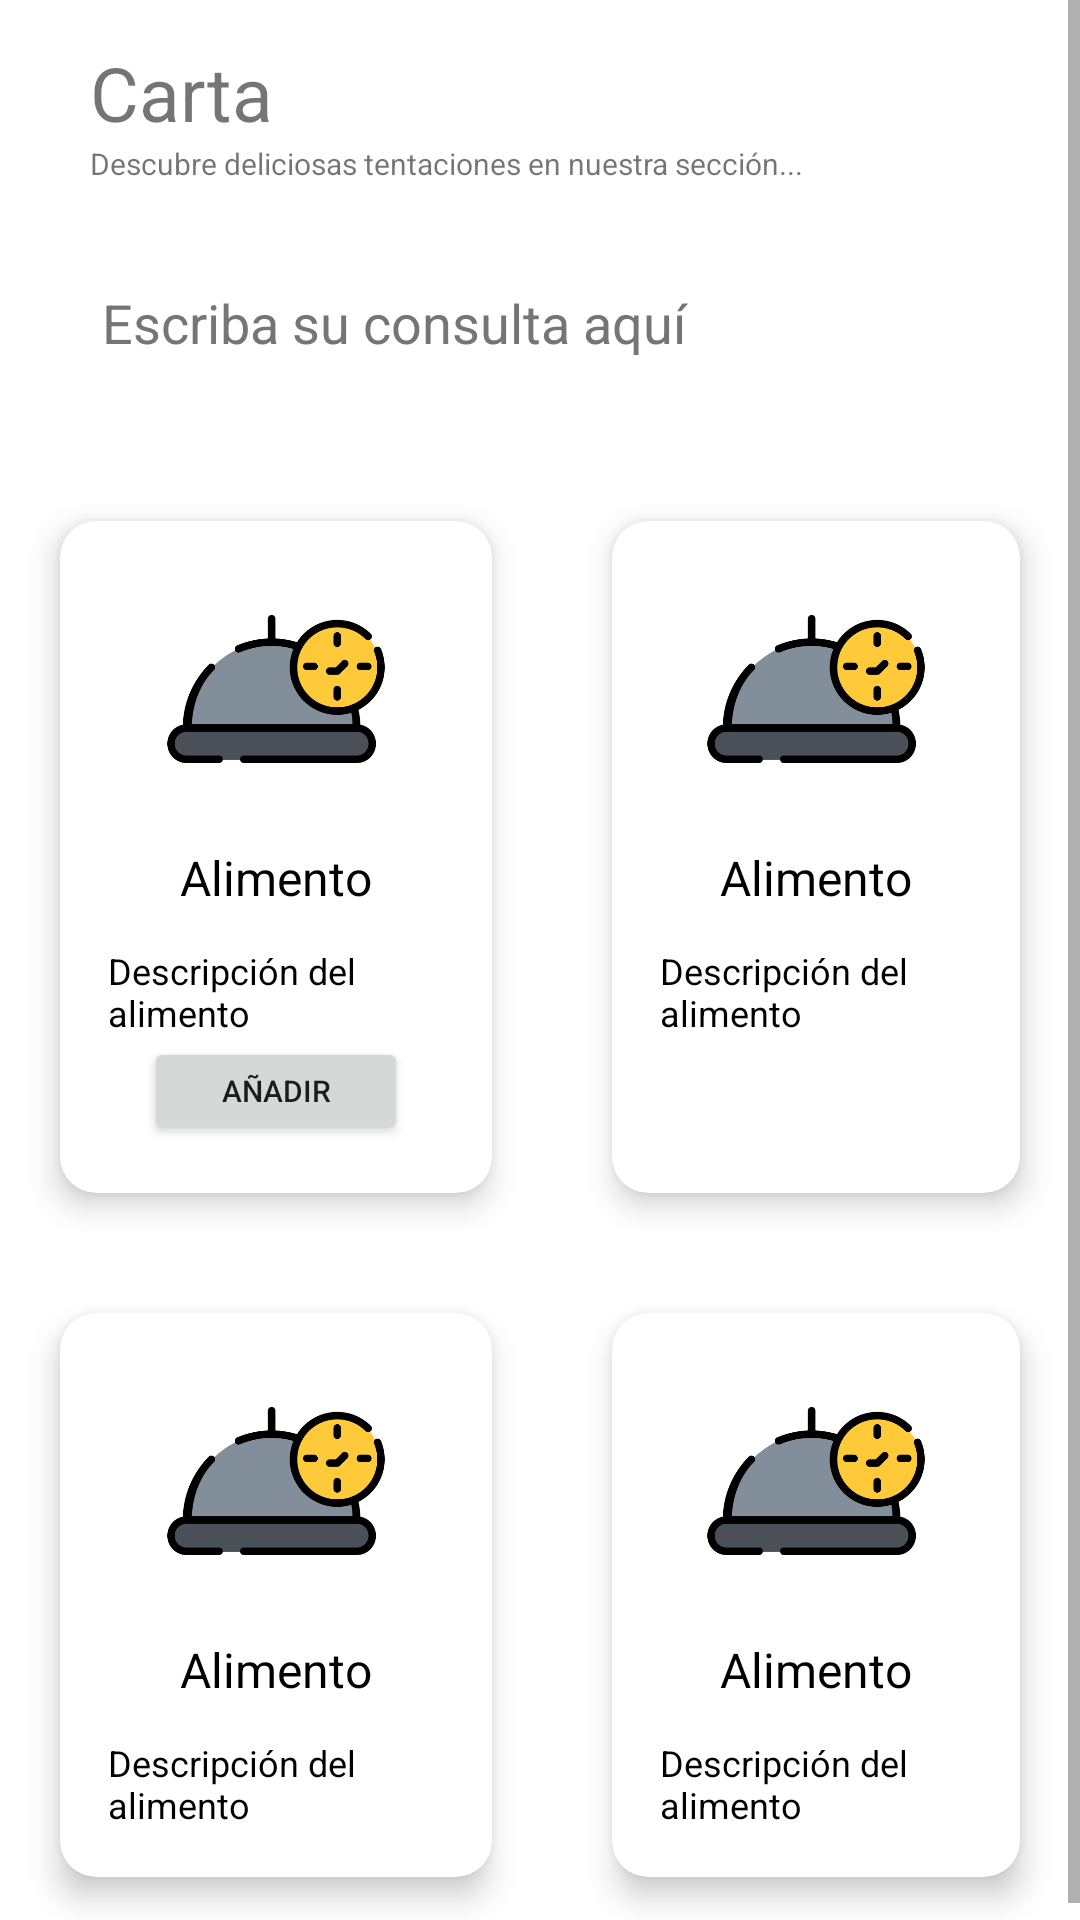

Where to tap for icons on this 1080×1920 app screen, as (x,y):
Antojos: (276,689)
